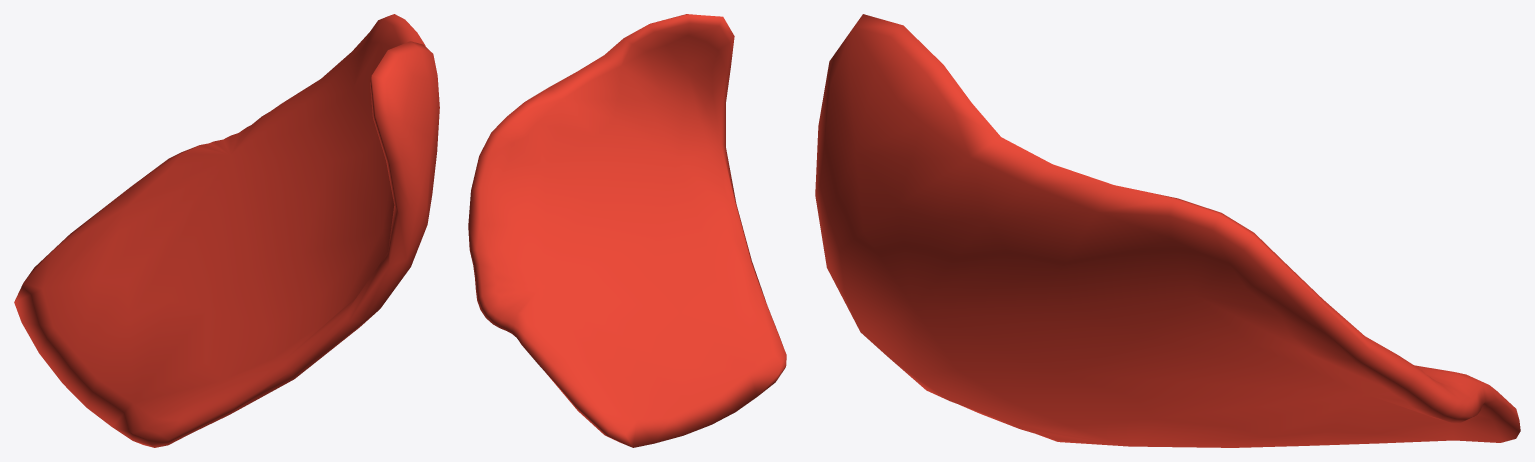
Rendered from Adductor_hallucis_oblique_head_cuboid_right.glb.
3 views of the same model, side by side, from view 1: azimuth 30°, elevation 25°; view 2: azimuth 150°, elevation 25°; view 3: azimuth 270°, elevation 25° (orthographic). The views are drawn at different scales.
Visible parts, largest first — view 1: Oblique_head_of_adductor_hallucis_on_cuboid_bone.r_Generated; view 2: Oblique_head_of_adductor_hallucis_on_cuboid_bone.r_Generated; view 3: Oblique_head_of_adductor_hallucis_on_cuboid_bone.r_Generated.
Boxes of the visible parts, <box> form: Oblique_head_of_adductor_hallucis_on_cuboid_bone.r_Generated: <box>14,14,439,447</box>; Oblique_head_of_adductor_hallucis_on_cuboid_bone.r_Generated: <box>468,14,786,447</box>; Oblique_head_of_adductor_hallucis_on_cuboid_bone.r_Generated: <box>815,14,1520,447</box>.
Bounding box in the file's own units: 0.00666 × 0.00786 × 0.00939.
